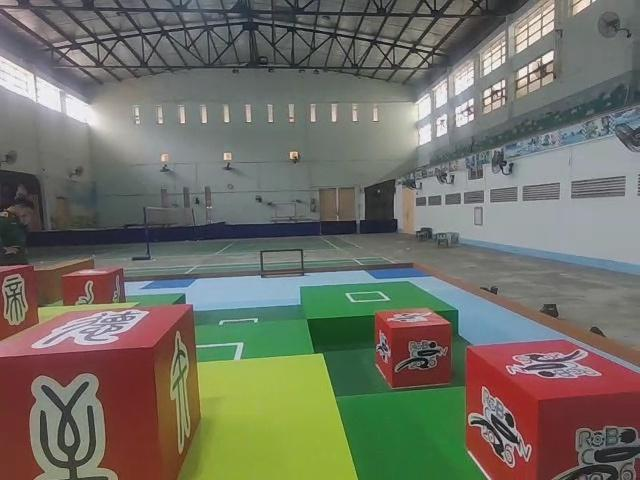R1: (463, 337, 640, 477), (376, 305, 453, 389)
R2 Fake: (6, 305, 201, 480), (1, 264, 40, 337)
R2 Real: (61, 269, 124, 311)
